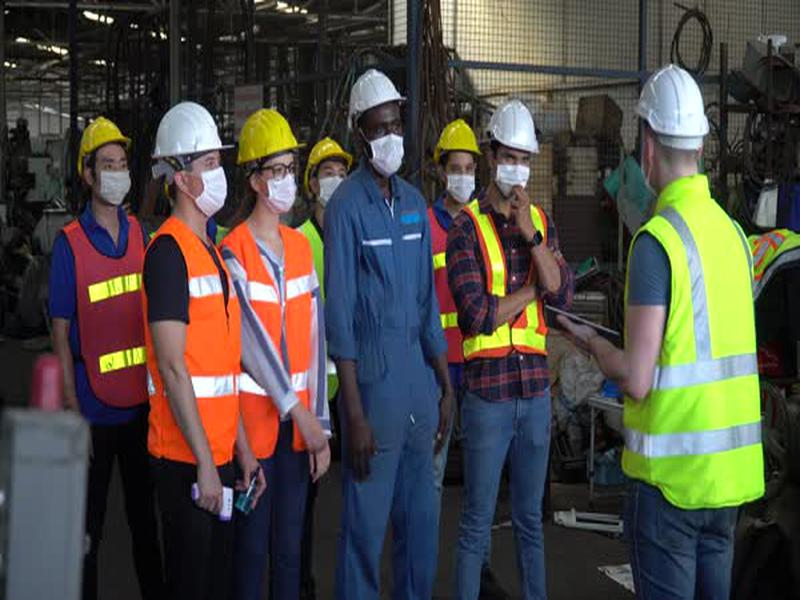hard-hat: (631, 62, 712, 153), (150, 100, 237, 161), (233, 106, 309, 166), (344, 67, 409, 133), (76, 115, 133, 175), (303, 134, 355, 197), (486, 98, 541, 157), (433, 117, 485, 163)
